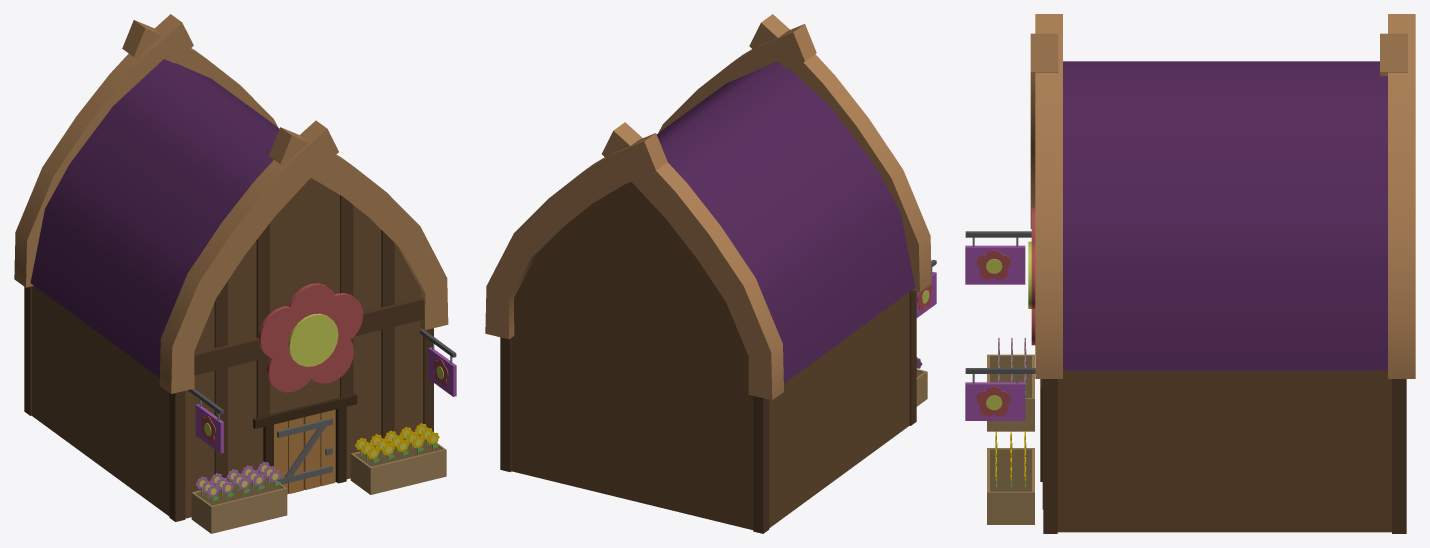
Rendered from BloemenWinkel.fbx.
3 renders of one model, left to right at view 1: azimuth 30°, elevation 25°; view 2: azimuth 150°, elevation 25°; view 3: azimuth 270°, elevation 25°, orthographic. The views are drawn at different scales.
Parts seen in each view (by area): view 1: Bloemenwinkel; view 2: Bloemenwinkel; view 3: Bloemenwinkel.
Boxes of the visible parts, bbox=[...] form: Bloemenwinkel: bbox=[14, 14, 456, 533]; Bloemenwinkel: bbox=[485, 14, 936, 533]; Bloemenwinkel: bbox=[965, 14, 1415, 533].
Bounding box in the file's own units: 2.8 × 3.47 × 3.26.
